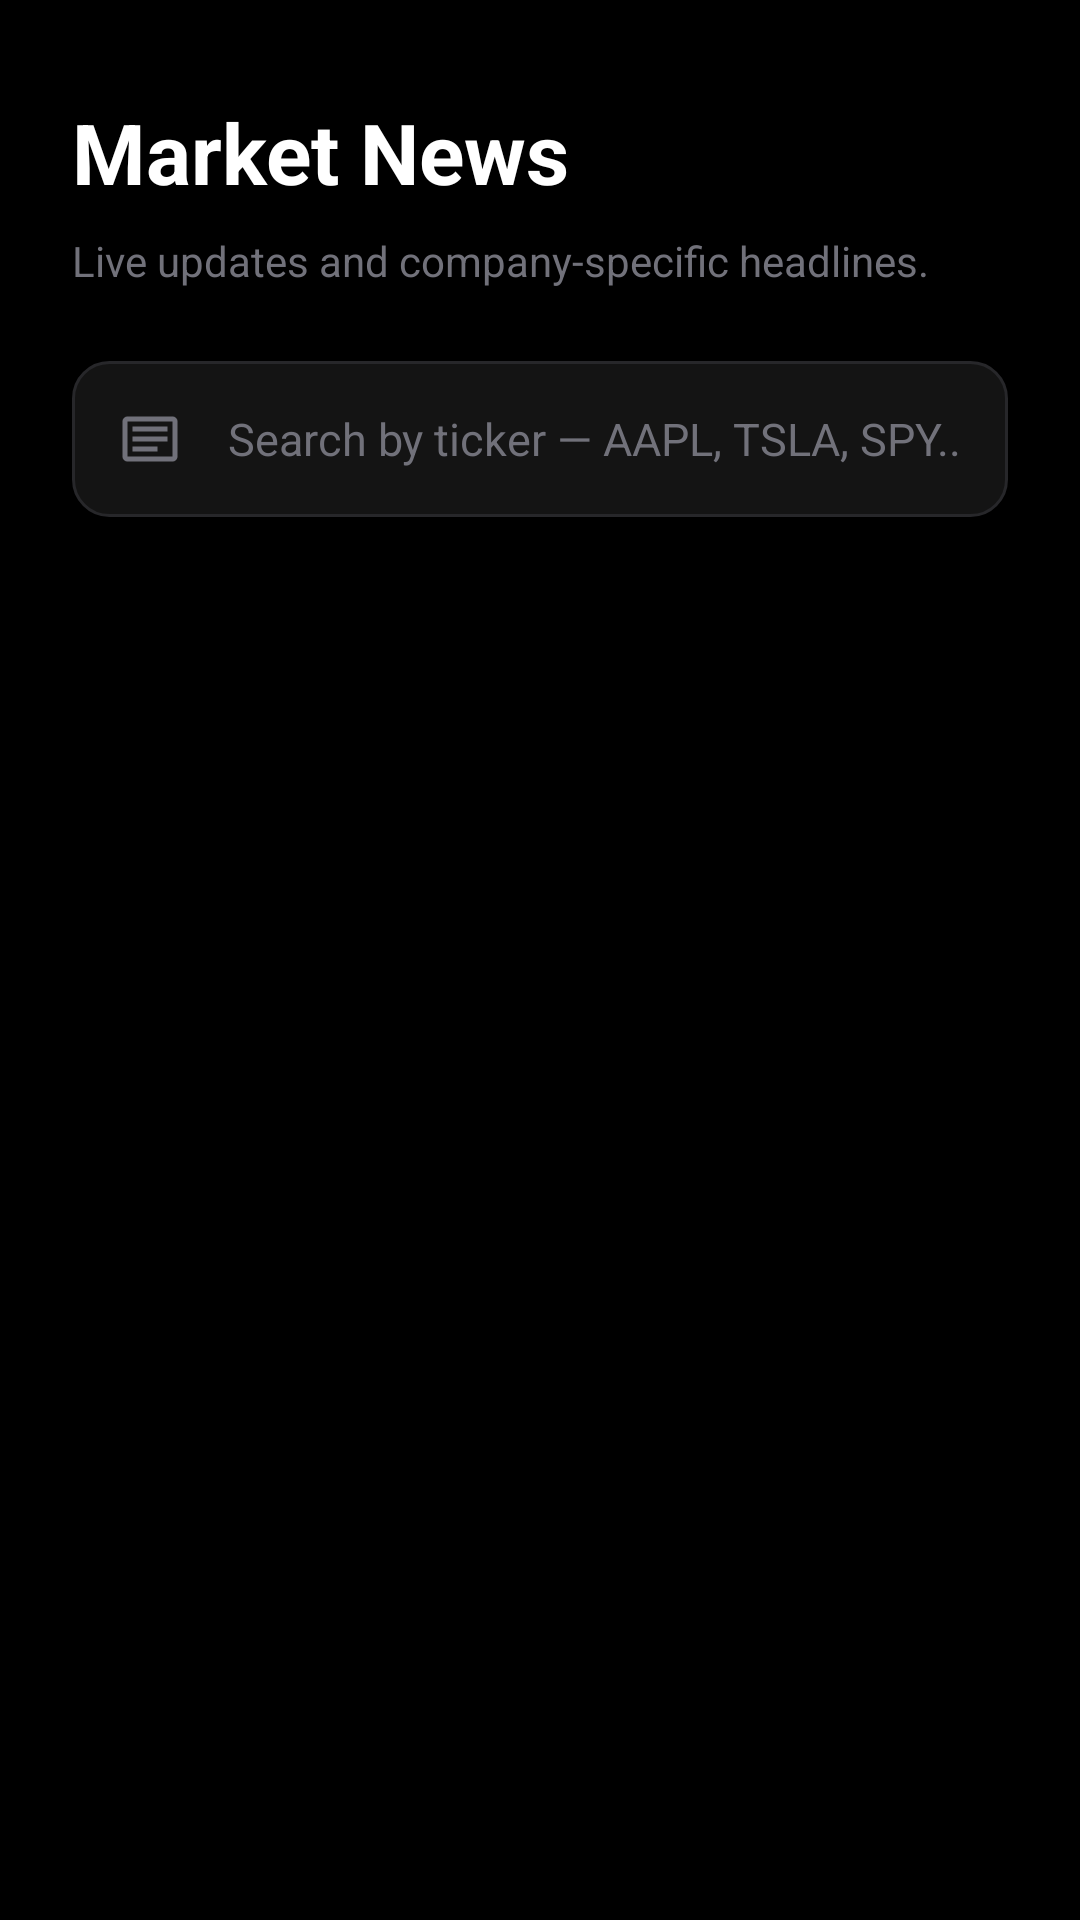

Screen size 1080×1920. Icon name, then its box in pixels as (x1, y1, x2, y2):
news: (122, 416, 178, 462)
